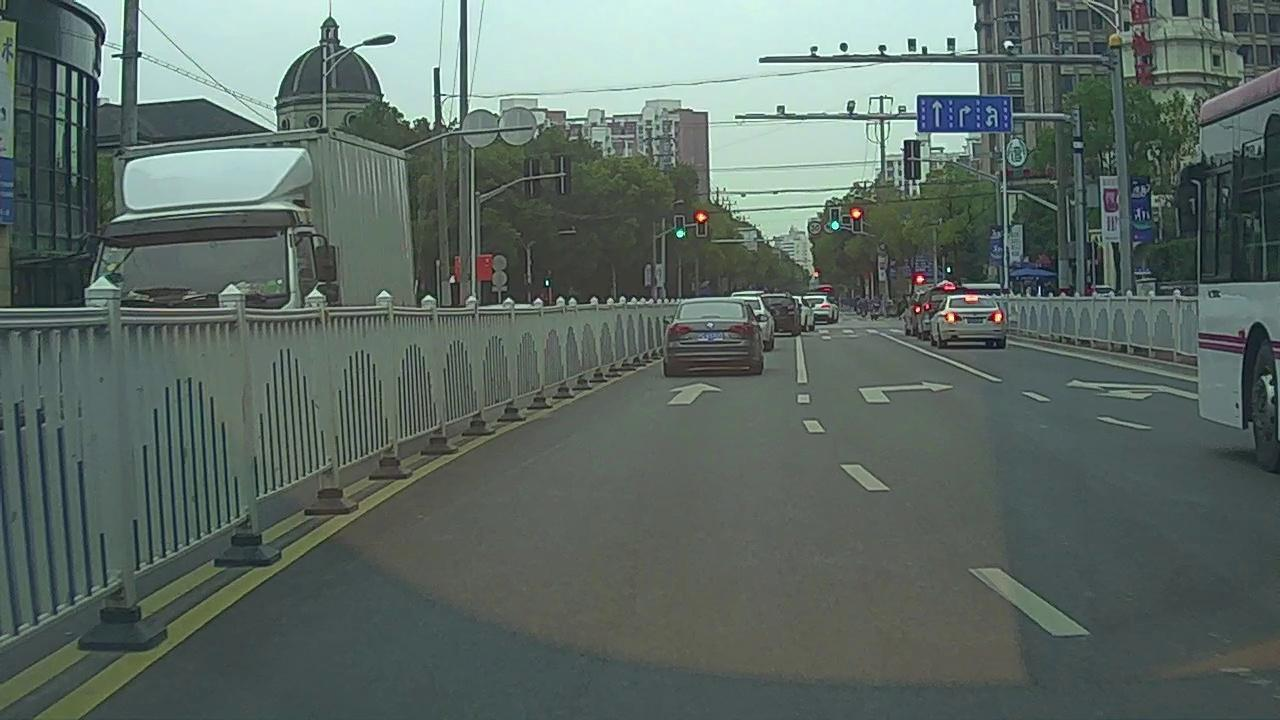traffic_light: (852, 206, 862, 232), (829, 209, 839, 231), (697, 212, 706, 235), (677, 214, 685, 239)
